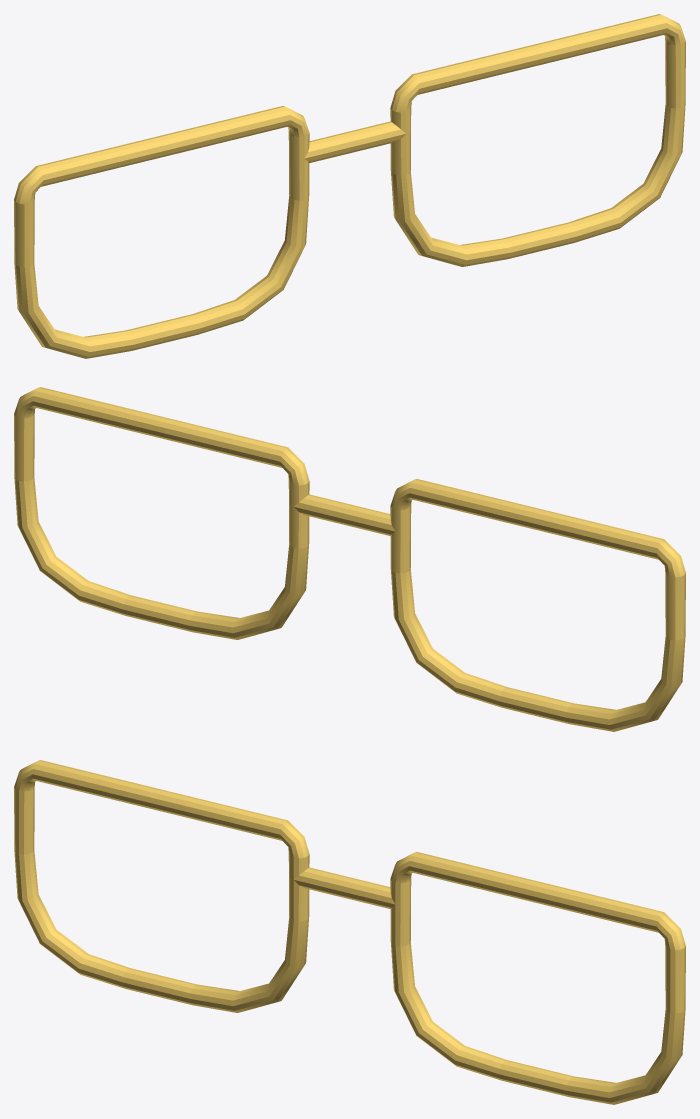
File: tri_Olds_glasses.fbx
3 views of the same model, one above another, from view 1: azimuth 30°, elevation 25°; view 2: azimuth 150°, elevation 25°; view 3: azimuth 330°, elevation 25° (orthographic).
Parts seen in each view (by area): view 1: glasses_modeling; view 2: glasses_modeling; view 3: glasses_modeling.
Boxes of the visible parts, x1,y1,x2,y2 form: glasses_modeling: (14,14,685,358); glasses_modeling: (14,387,685,731); glasses_modeling: (14,760,685,1104).
Bounding box in the file's own units: 0.5529 × 0.1624 × 0.0168.
Materials: 1 (1 with a texture image).
